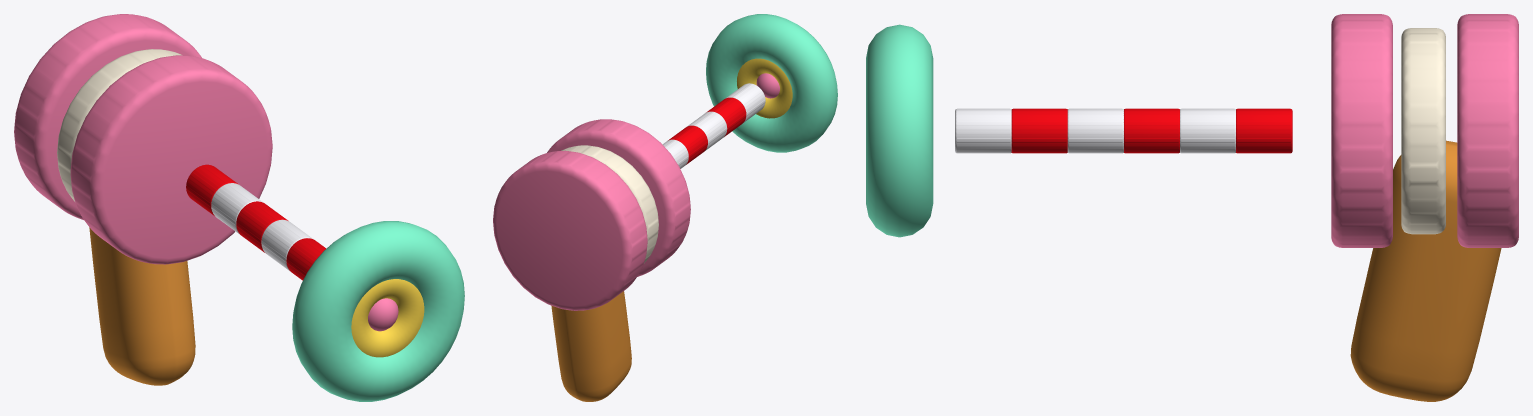
3 renders of one model, left to right at view 1: azimuth 30°, elevation 25°; view 2: azimuth 150°, elevation 25°; view 3: azimuth 270°, elevation 25°, orthographic. The views are drawn at different scales.
Visible parts, largest first — view 1: Cylinder.001, Torus, Cylinder, Cube, Torus.001, Cylinder.002, Cylinder.003, Cylinder.006, Cylinder.004, Cylinder.005, Cylinder.007, Sphere; view 2: Cylinder, Torus, Cylinder.001, Cube, Cylinder.002, Torus.001, Cylinder.008, Cylinder.006, Cylinder.007, Cylinder.005, Cylinder.004, Sphere; view 3: Cube, Cylinder, Cylinder.001, Torus, Cylinder.002, Cylinder.007, Cylinder.008, Cylinder.006, Cylinder.003, Cylinder.004, Cylinder.005.
Part boxes in pixels (box(x1,y1,x2,y2)): Cylinder.001: box(70, 55, 272, 264); Torus: box(292, 221, 464, 401); Cylinder: box(14, 14, 201, 219); Cube: box(89, 227, 195, 385); Torus.001: box(351, 279, 424, 357); Cylinder.002: box(57, 49, 182, 201); Cylinder.003: box(186, 164, 238, 215); Cylinder.006: box(261, 219, 313, 271); Cylinder.004: box(211, 183, 263, 234); Cylinder.005: box(236, 201, 288, 252); Cylinder.007: box(286, 238, 326, 280); Sphere: box(368, 298, 398, 331); Cylinder: box(493, 150, 647, 310); Torus: box(706, 14, 837, 152); Cylinder.001: box(547, 119, 690, 276); Cube: box(551, 291, 631, 401); Cylinder.002: box(561, 145, 658, 263); Torus.001: box(737, 58, 792, 118); Cylinder.008: box(725, 83, 765, 122); Cylinder.006: box(687, 111, 727, 150); Cylinder.007: box(706, 97, 746, 136); Cylinder.005: box(668, 125, 707, 164); Cylinder.004: box(662, 139, 688, 168); Sphere: box(756, 73, 779, 98); Cube: box(1350, 140, 1501, 401); Cylinder: box(1457, 14, 1518, 247); Cylinder.001: box(1331, 14, 1392, 247); Torus: box(866, 24, 933, 237); Cylinder.002: box(1401, 28, 1445, 234); Cylinder.007: box(1011, 108, 1067, 153); Cylinder.008: box(955, 108, 1011, 153); Cylinder.006: box(1067, 108, 1123, 153); Cylinder.003: box(1236, 108, 1292, 153); Cylinder.004: box(1180, 108, 1235, 153); Cylinder.005: box(1124, 108, 1179, 153).
Size of the model in its own units: 0.0835 by 0.147 by 0.233.
